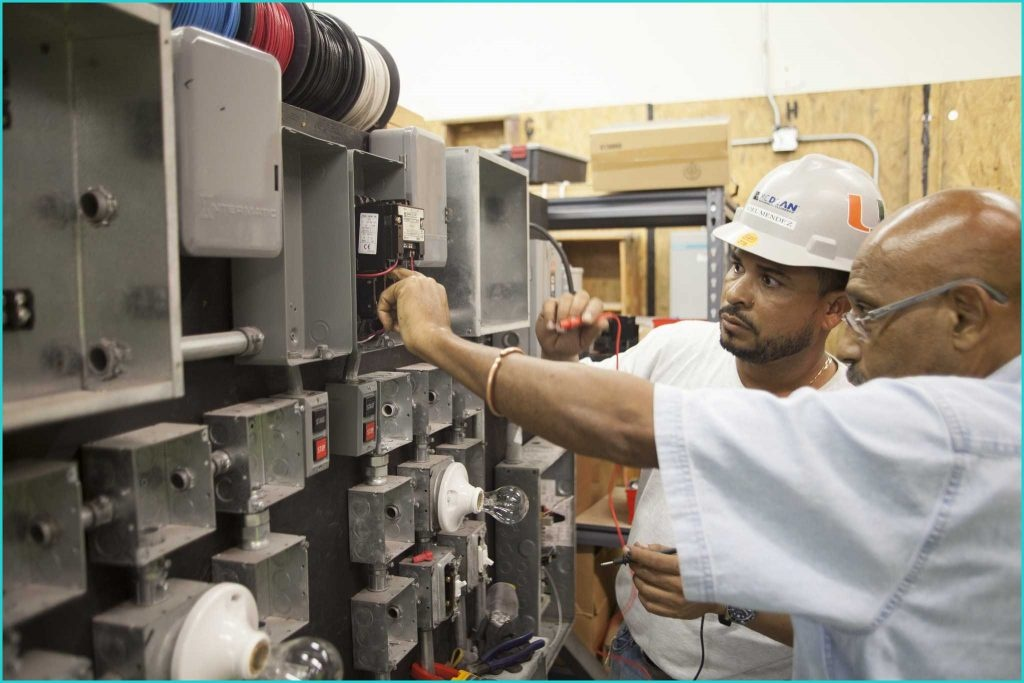none: (841, 186, 1024, 392)
white: (698, 149, 886, 366)
